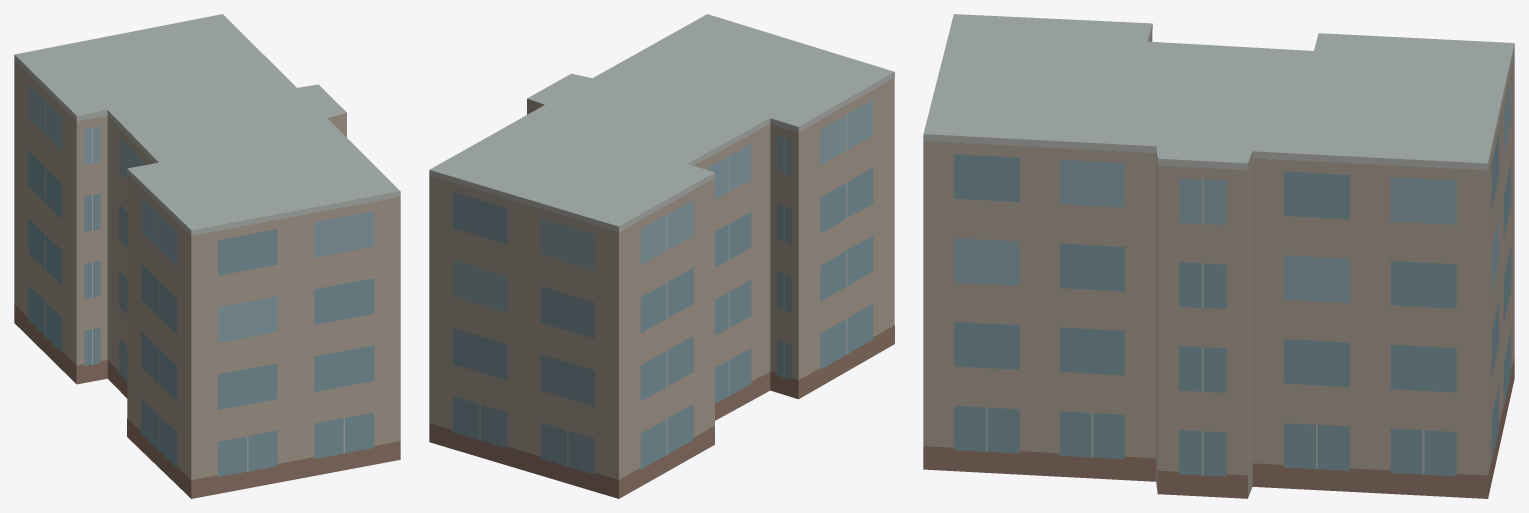
The model's file is survey-upis-32535886.glb.
3 renders of one model, left to right at view 1: azimuth 30°, elevation 25°; view 2: azimuth 150°, elevation 25°; view 3: azimuth 270°, elevation 25°, orthographic. The views are drawn at different scales.
Visible parts, largest first — view 1: survey-upis-32535886.tmp; view 2: survey-upis-32535886.tmp; view 3: survey-upis-32535886.tmp.
Part boxes in pixels (box(x1,y1,x2,y2)): survey-upis-32535886.tmp: box(14, 14, 400, 498); survey-upis-32535886.tmp: box(429, 14, 894, 498); survey-upis-32535886.tmp: box(923, 14, 1514, 498).
Size of the model in its own units: 11.29 by 11.8 by 18.86.
